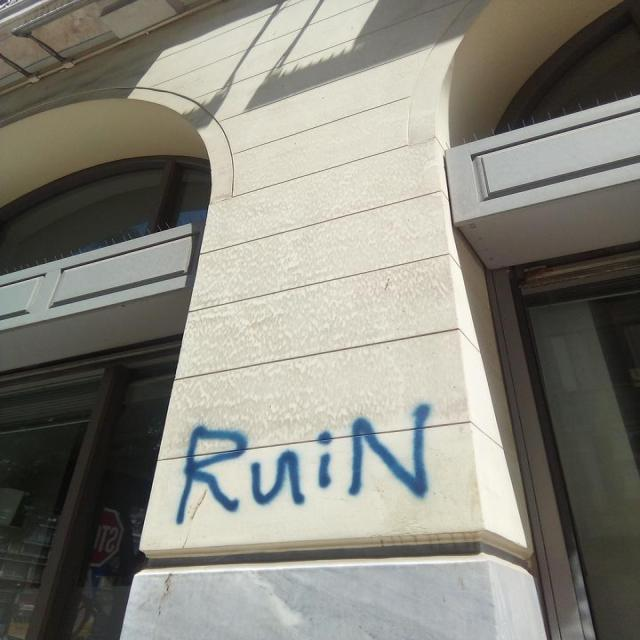nonspitting: (178, 404, 432, 524)
